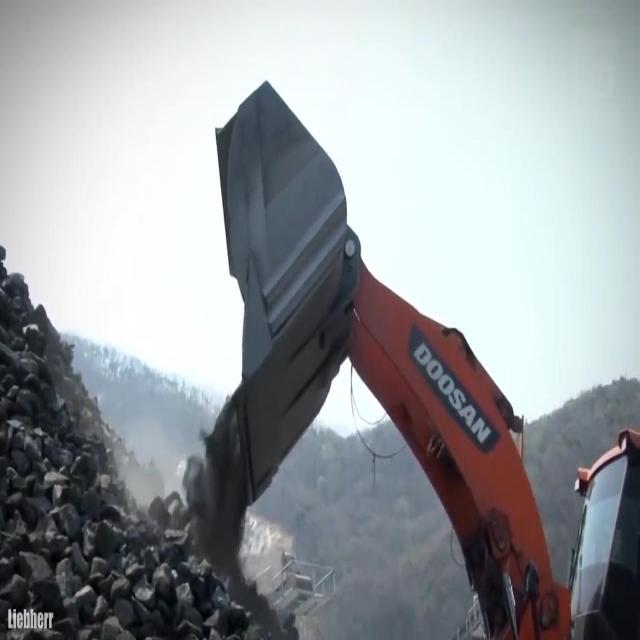pala cargadora: (216, 53, 640, 639)
